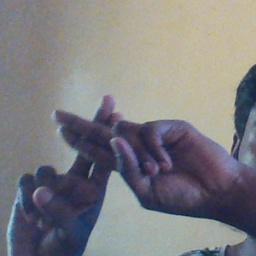F: (25, 85, 171, 214)
